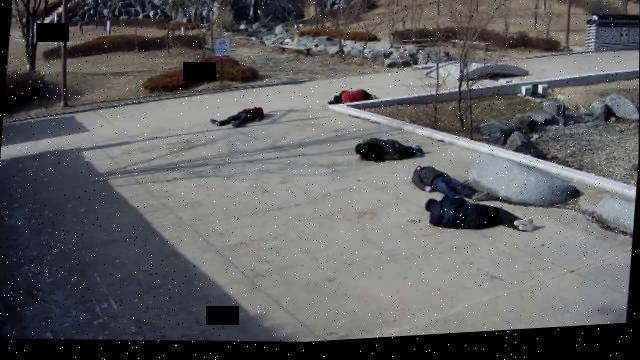fall: (421, 198, 542, 244), (411, 168, 491, 211), (354, 137, 423, 171), (209, 105, 266, 135), (329, 91, 379, 114)
